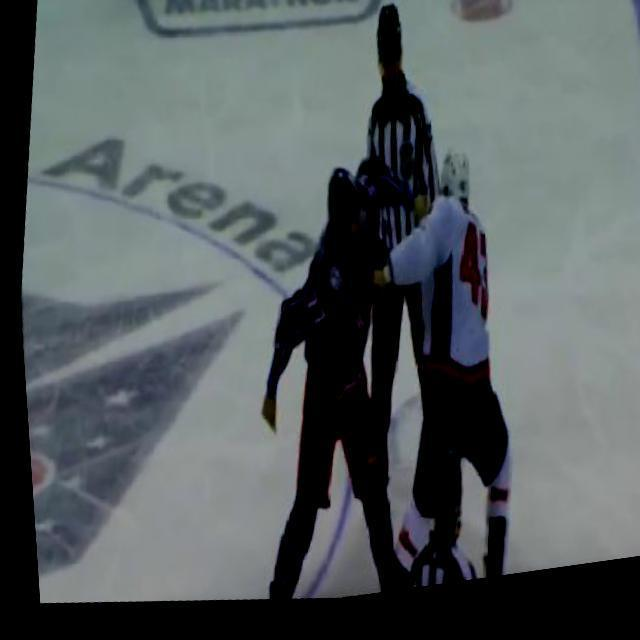fight: (192, 122, 558, 620)
